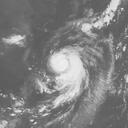cyclone: (47, 47, 87, 88)
